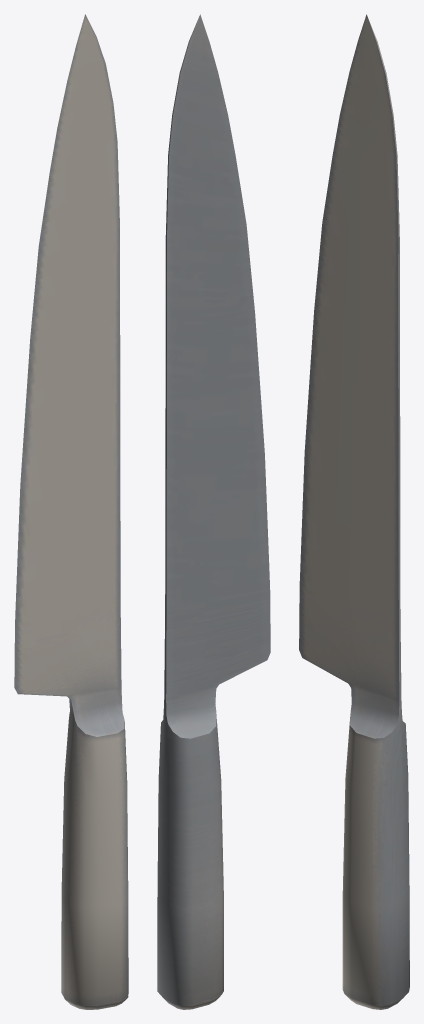
Rendered from SM_Knife_04.glb.
The picture shows the model from 3 angles, left to right: view 1: azimuth 30°, elevation 25°; view 2: azimuth 210°, elevation 25°; view 3: azimuth 330°, elevation 25°; orthographic projection.
Visible parts, largest first — view 1: SM_Knife_04; view 2: SM_Knife_04; view 3: SM_Knife_04.
Part boxes in pixels (x1=…): SM_Knife_04: x1=14, y1=14, x2=128, y2=1009; SM_Knife_04: x1=157, y1=14, x2=270, y2=1009; SM_Knife_04: x1=299, y1=14, x2=409, y2=1009.
Bounding box in the file's own units: 0.0497 × 0.4441 × 0.0243.
Materials: 1 (1 with a texture image).
